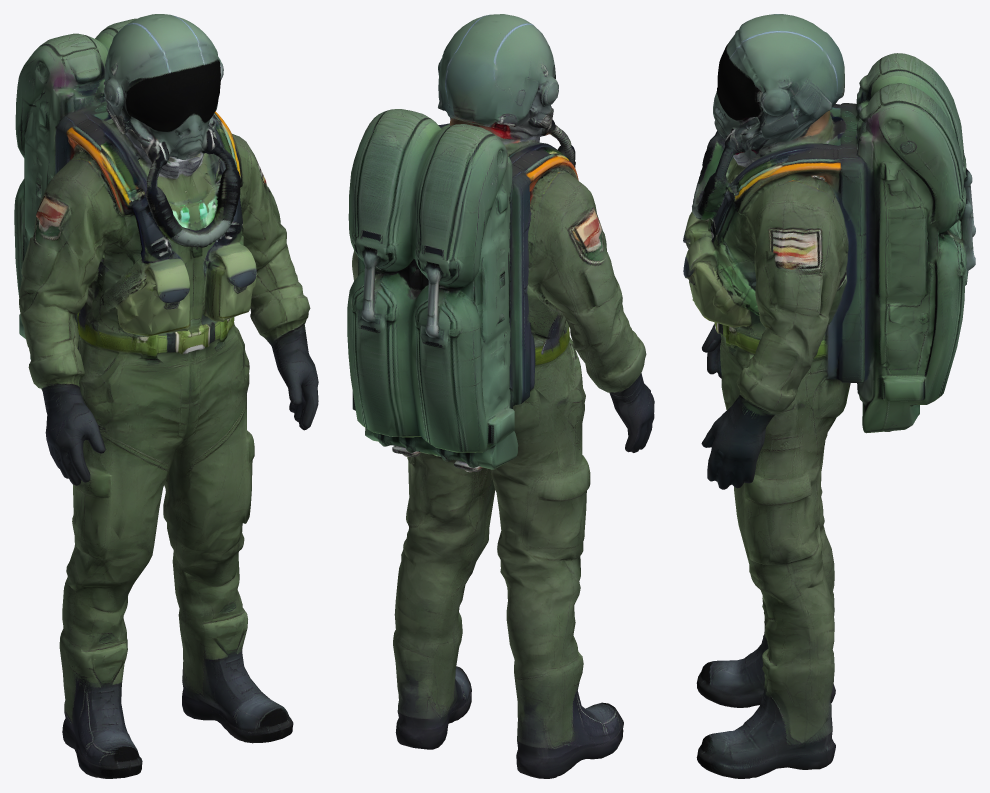
File: Pilot.glb
3 renders of one model, left to right at view 1: azimuth 30°, elevation 25°; view 2: azimuth 150°, elevation 25°; view 3: azimuth 270°, elevation 25°, orthographic.
Bounding box in the file's own units: 0.752 × 1.91 × 0.7101.
Materials: 1 (1 with a texture image).
